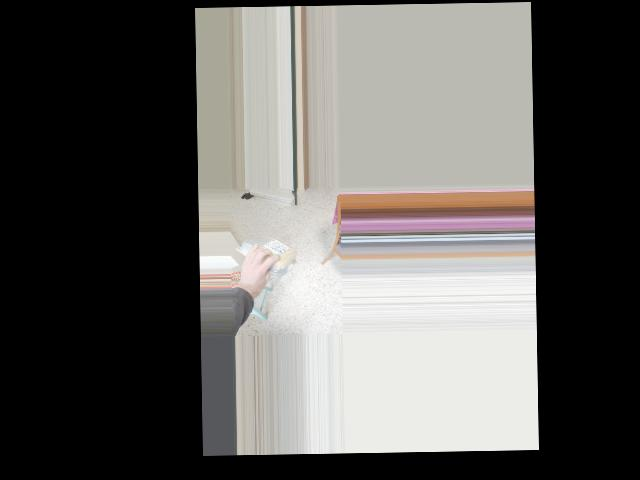cheese: (239, 238, 302, 268)
